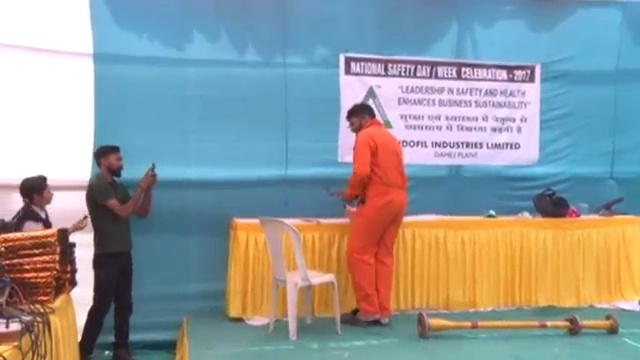helmet_off: (18, 174, 55, 209), (94, 145, 126, 180), (347, 101, 377, 136)
person: (322, 100, 412, 337), (74, 147, 159, 360), (2, 166, 87, 245)
